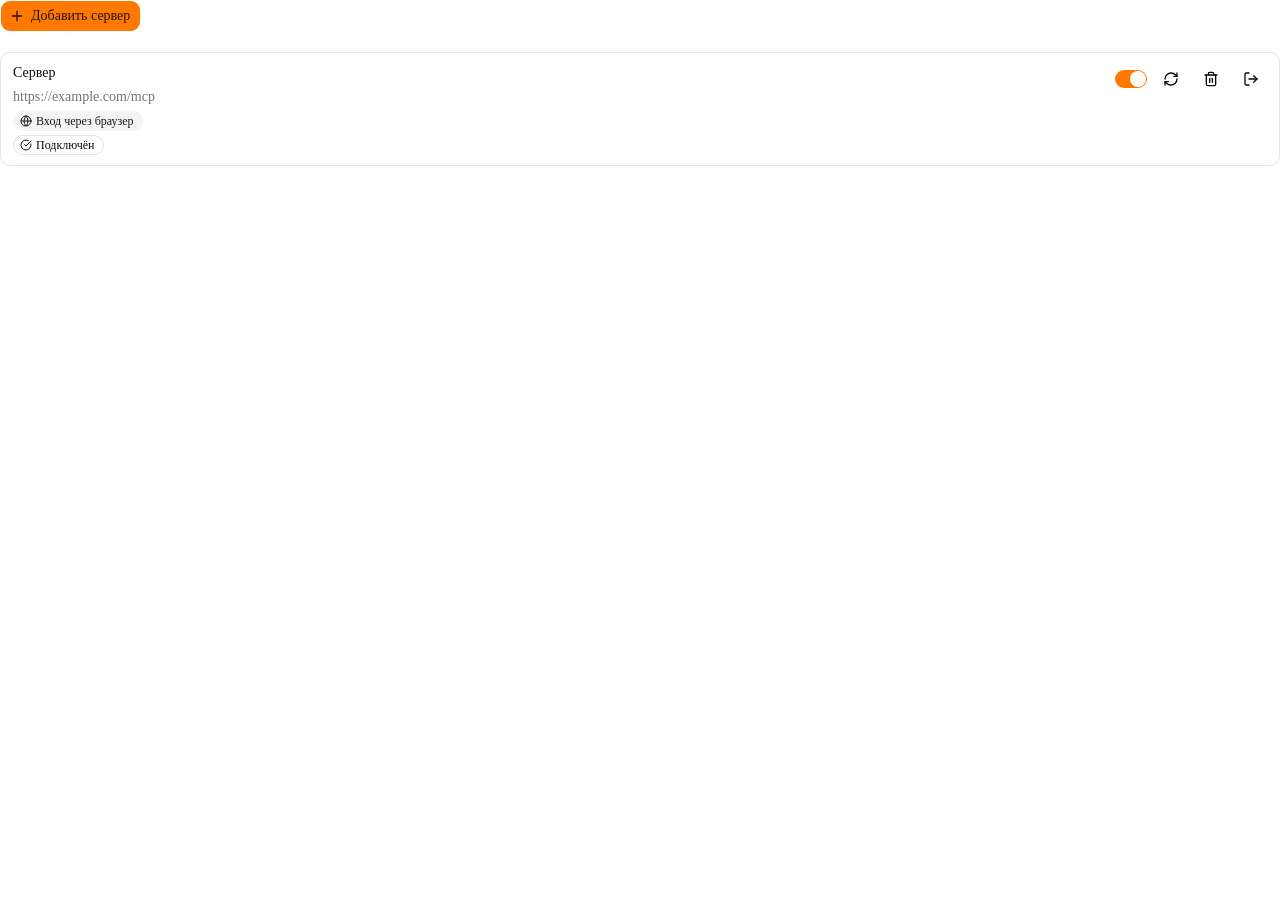
выход отправляет POST, обновляет статус и убирает старую проверку
The width and height of the screenshot is (1280, 900).
Click the button named "Проверить Сервер". click: x=1171, y=79
box: x1=1155 y1=63 x2=1187 y2=95
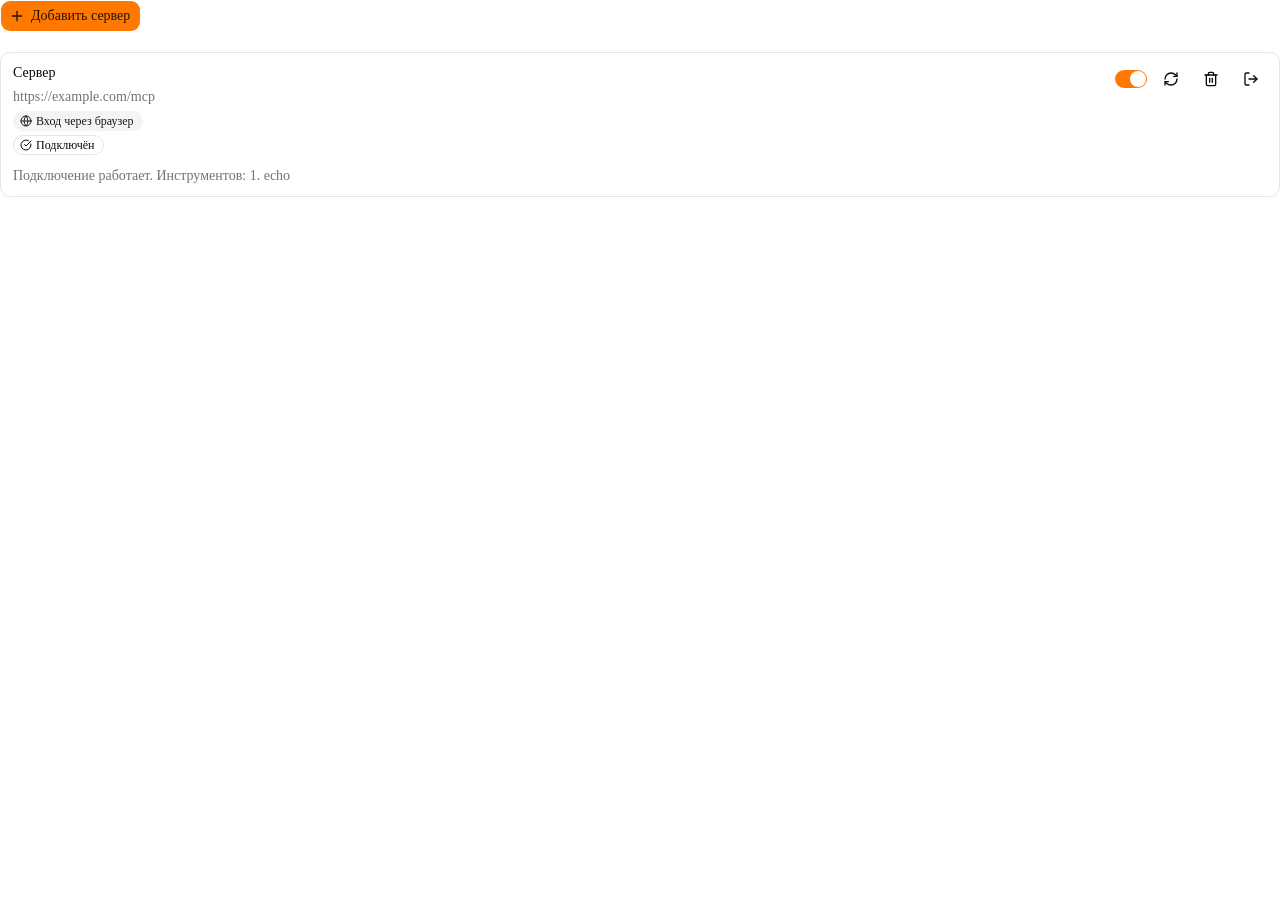
Expected: the text "Подключение работает. Инструментов: 1. echo" is shown, x1=13 y1=165 x2=290 y2=186
Click the button named "Сбросить вход: Сервер". click: x=1251, y=79
box: x1=1235 y1=63 x2=1267 y2=95
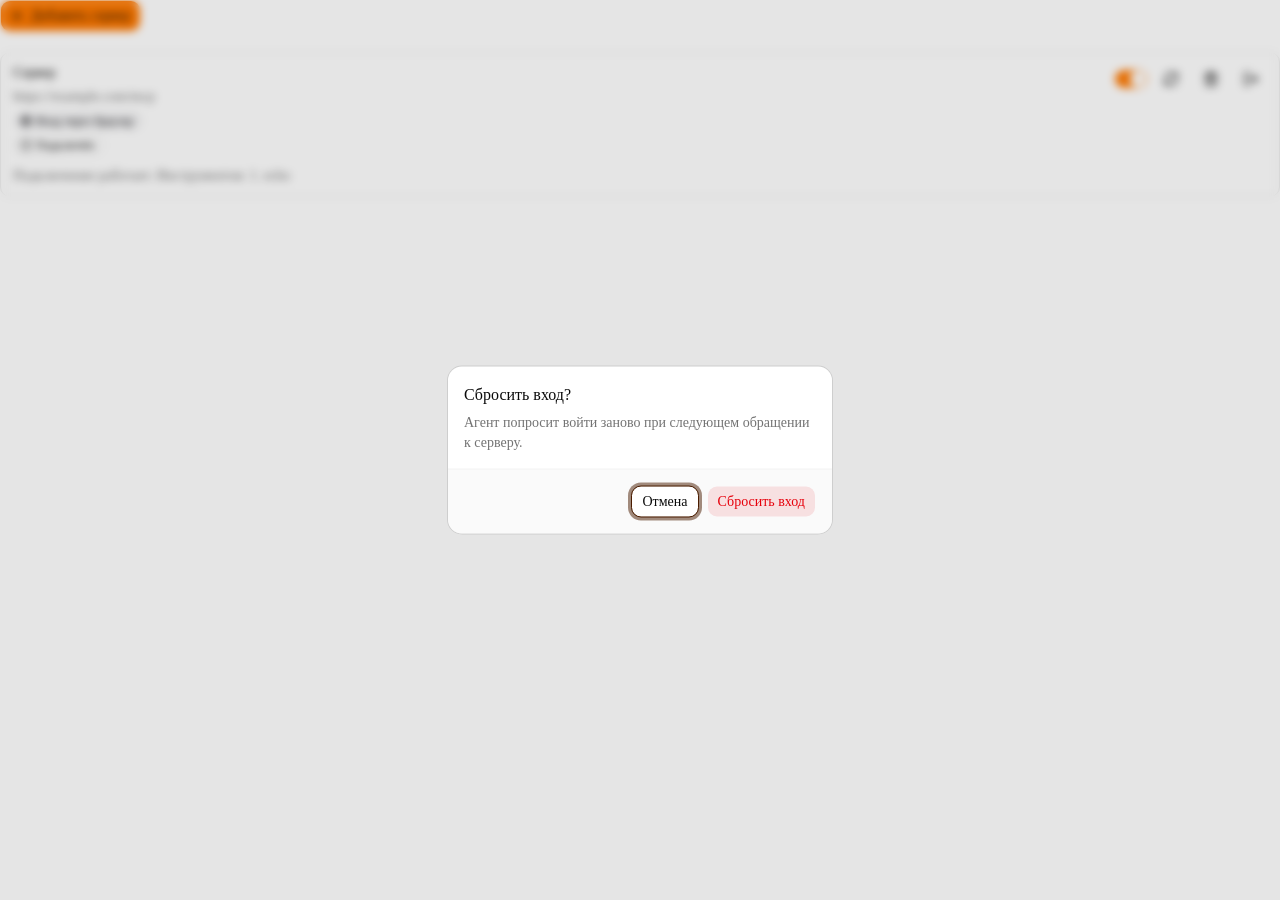
Click the button "Сбросить вход". click: x=761, y=502
box: x1=706 y1=486 x2=816 y2=518
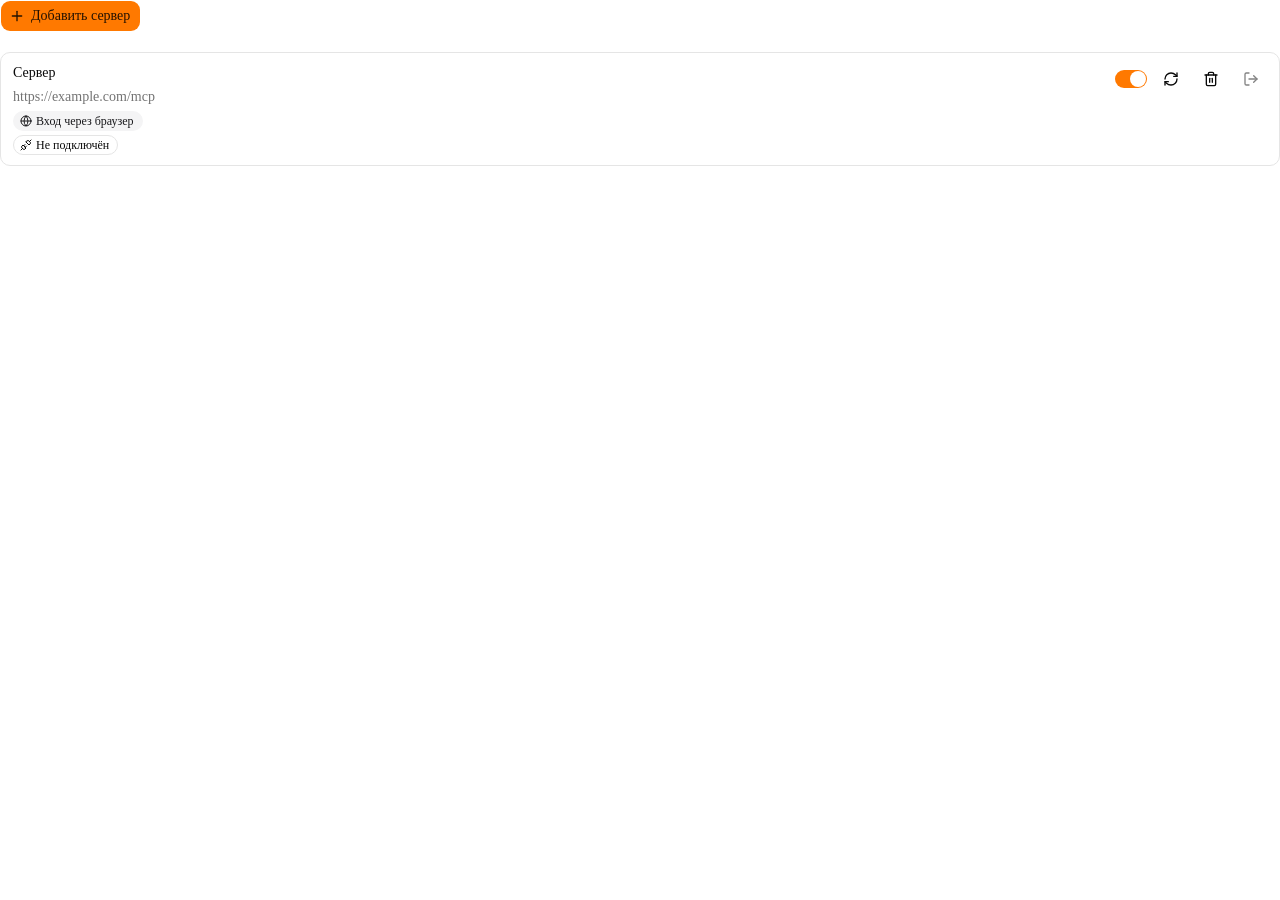
Expected: the text "Не подключён" is shown, x1=13 y1=135 x2=118 y2=155
